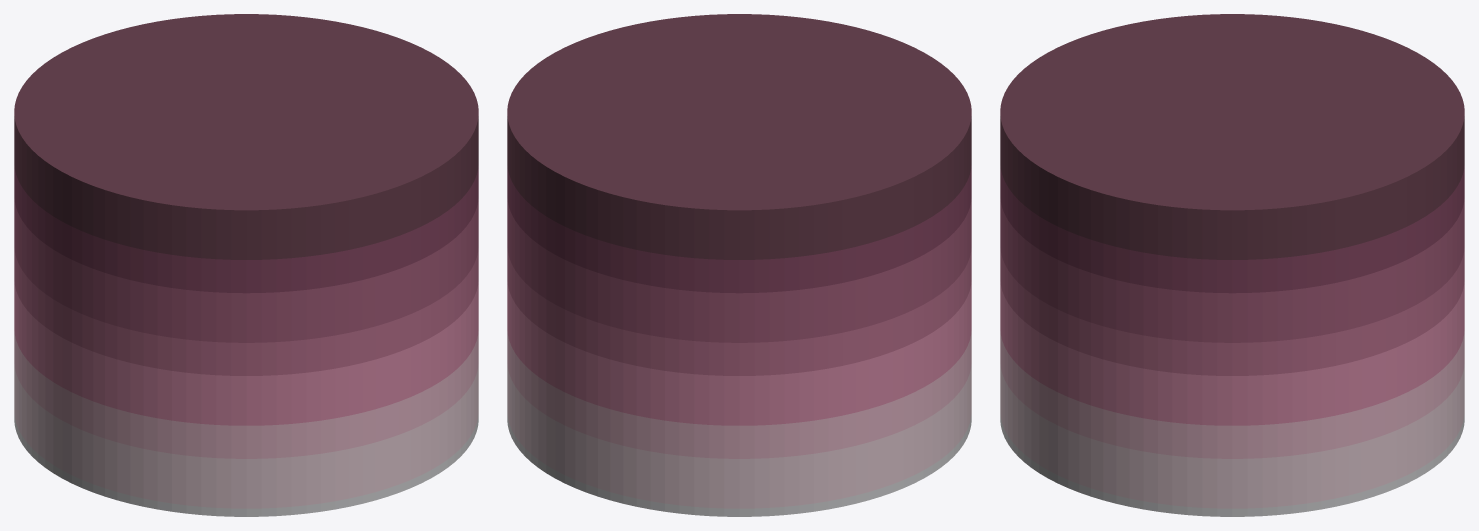
The model's file is cake_10in_layers4.glb.
3 renders of one model, left to right at view 1: azimuth 30°, elevation 25°; view 2: azimuth 150°, elevation 25°; view 3: azimuth 270°, elevation 25°, orthographic.
Visible parts, largest first — view 1: geometry_6, geometry_0, geometry_2, geometry_4, geometry_1, geometry_3, geometry_5, geometry_7; view 2: geometry_6, geometry_0, geometry_2, geometry_4, geometry_1, geometry_3, geometry_5, geometry_7; view 3: geometry_6, geometry_0, geometry_2, geometry_4, geometry_1, geometry_3, geometry_5, geometry_7.
Part boxes in pixels (bbox=[...]): geometry_6: bbox=[14, 14, 478, 259]; geometry_0: bbox=[14, 364, 478, 508]; geometry_2: bbox=[14, 282, 478, 425]; geometry_4: bbox=[14, 199, 478, 342]; geometry_1: bbox=[14, 331, 478, 458]; geometry_3: bbox=[14, 248, 478, 375]; geometry_5: bbox=[14, 166, 478, 293]; geometry_7: bbox=[14, 414, 478, 516]; geometry_6: bbox=[507, 14, 971, 259]; geometry_0: bbox=[507, 364, 971, 508]; geometry_2: bbox=[507, 282, 971, 425]; geometry_4: bbox=[507, 199, 971, 342]; geometry_1: bbox=[507, 331, 971, 458]; geometry_3: bbox=[507, 248, 971, 375]; geometry_5: bbox=[507, 166, 971, 293]; geometry_7: bbox=[507, 414, 971, 516]; geometry_6: bbox=[1000, 14, 1464, 259]; geometry_0: bbox=[1000, 364, 1464, 508]; geometry_2: bbox=[1000, 282, 1464, 425]; geometry_4: bbox=[1000, 199, 1464, 342]; geometry_1: bbox=[1000, 331, 1464, 458]; geometry_3: bbox=[1000, 248, 1464, 375]; geometry_5: bbox=[1000, 166, 1464, 293]; geometry_7: bbox=[1000, 414, 1464, 516].
Size of the model in its own units: 0.254 by 0.185 by 0.254.
